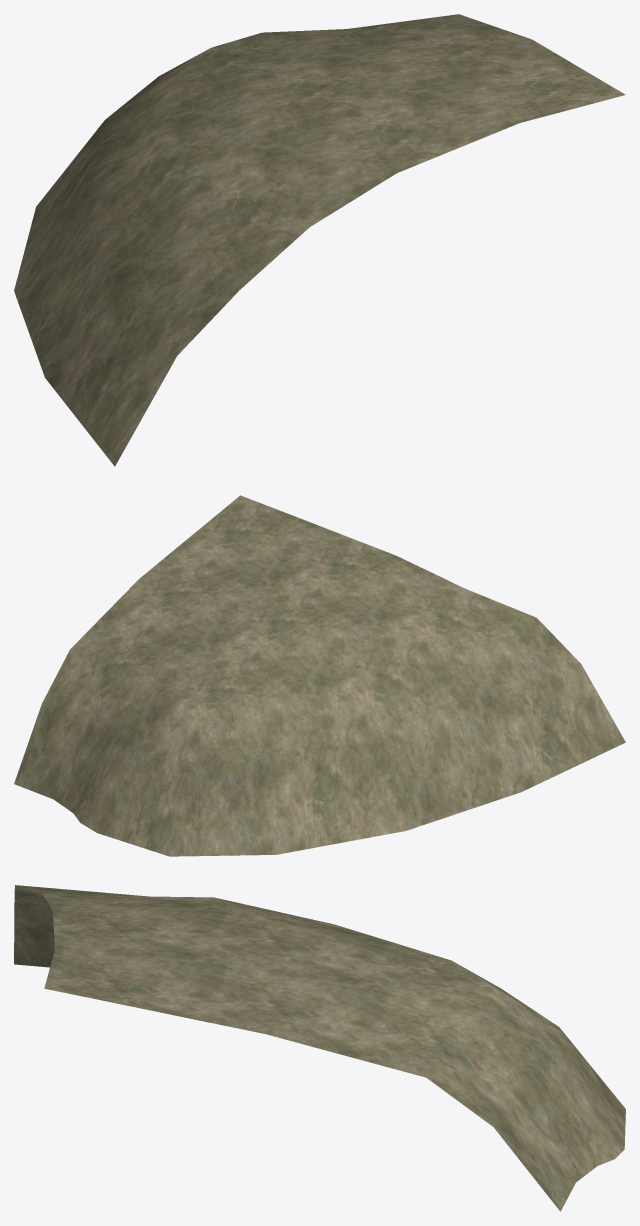
File: OVERHILL_A_01_OBJECT158.fbx
3 renders of one model, top to bottom at view 1: azimuth 30°, elevation 25°; view 2: azimuth 150°, elevation 25°; view 3: azimuth 270°, elevation 25°, orthographic. The views are drawn at different scales.
Visible parts, largest first — view 1: OVERHILL_A_01_OBJECT158; view 2: OVERHILL_A_01_OBJECT158; view 3: OVERHILL_A_01_OBJECT158.
Part boxes in pixels (x1,y1,x2,y2): OVERHILL_A_01_OBJECT158: (14,14,625,466); OVERHILL_A_01_OBJECT158: (14,495,625,856); OVERHILL_A_01_OBJECT158: (14,885,625,1211).
Size of the model in its own units: 267199 by 103460 by 264082.
Materials: 2 (2 with a texture image).
